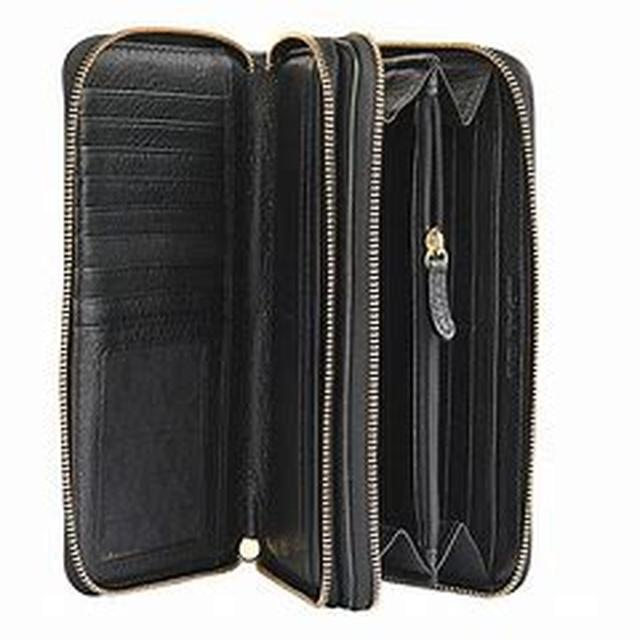wallet: (61, 24, 562, 598)
